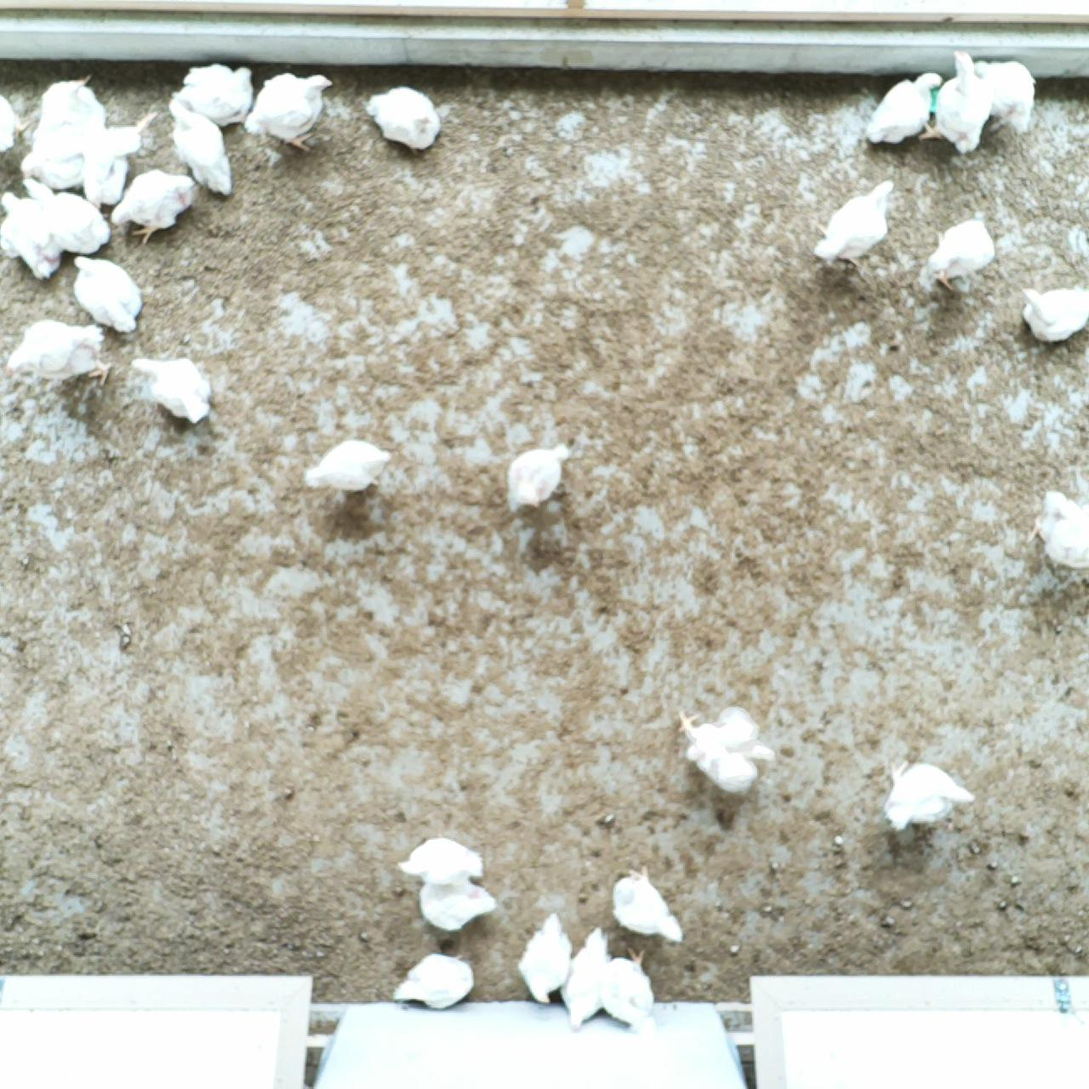chicken: (675, 699, 775, 798), (19, 122, 144, 190), (1, 316, 115, 390), (921, 44, 992, 158), (244, 68, 337, 155), (814, 176, 899, 267), (18, 174, 114, 253), (881, 755, 977, 833), (162, 95, 235, 197), (553, 925, 620, 1035), (108, 170, 198, 248), (605, 861, 687, 946), (864, 68, 945, 151), (125, 352, 213, 424), (590, 939, 657, 1033), (0, 186, 65, 282), (71, 252, 143, 335), (174, 58, 255, 131), (924, 214, 996, 293), (302, 433, 393, 495), (505, 441, 579, 515), (362, 83, 441, 150), (517, 910, 572, 1006), (971, 57, 1037, 136), (1014, 279, 1089, 348), (1029, 486, 1089, 571), (391, 951, 477, 1010), (419, 871, 498, 933), (38, 75, 106, 144), (394, 834, 485, 885), (83, 140, 134, 213), (0, 86, 36, 157)
